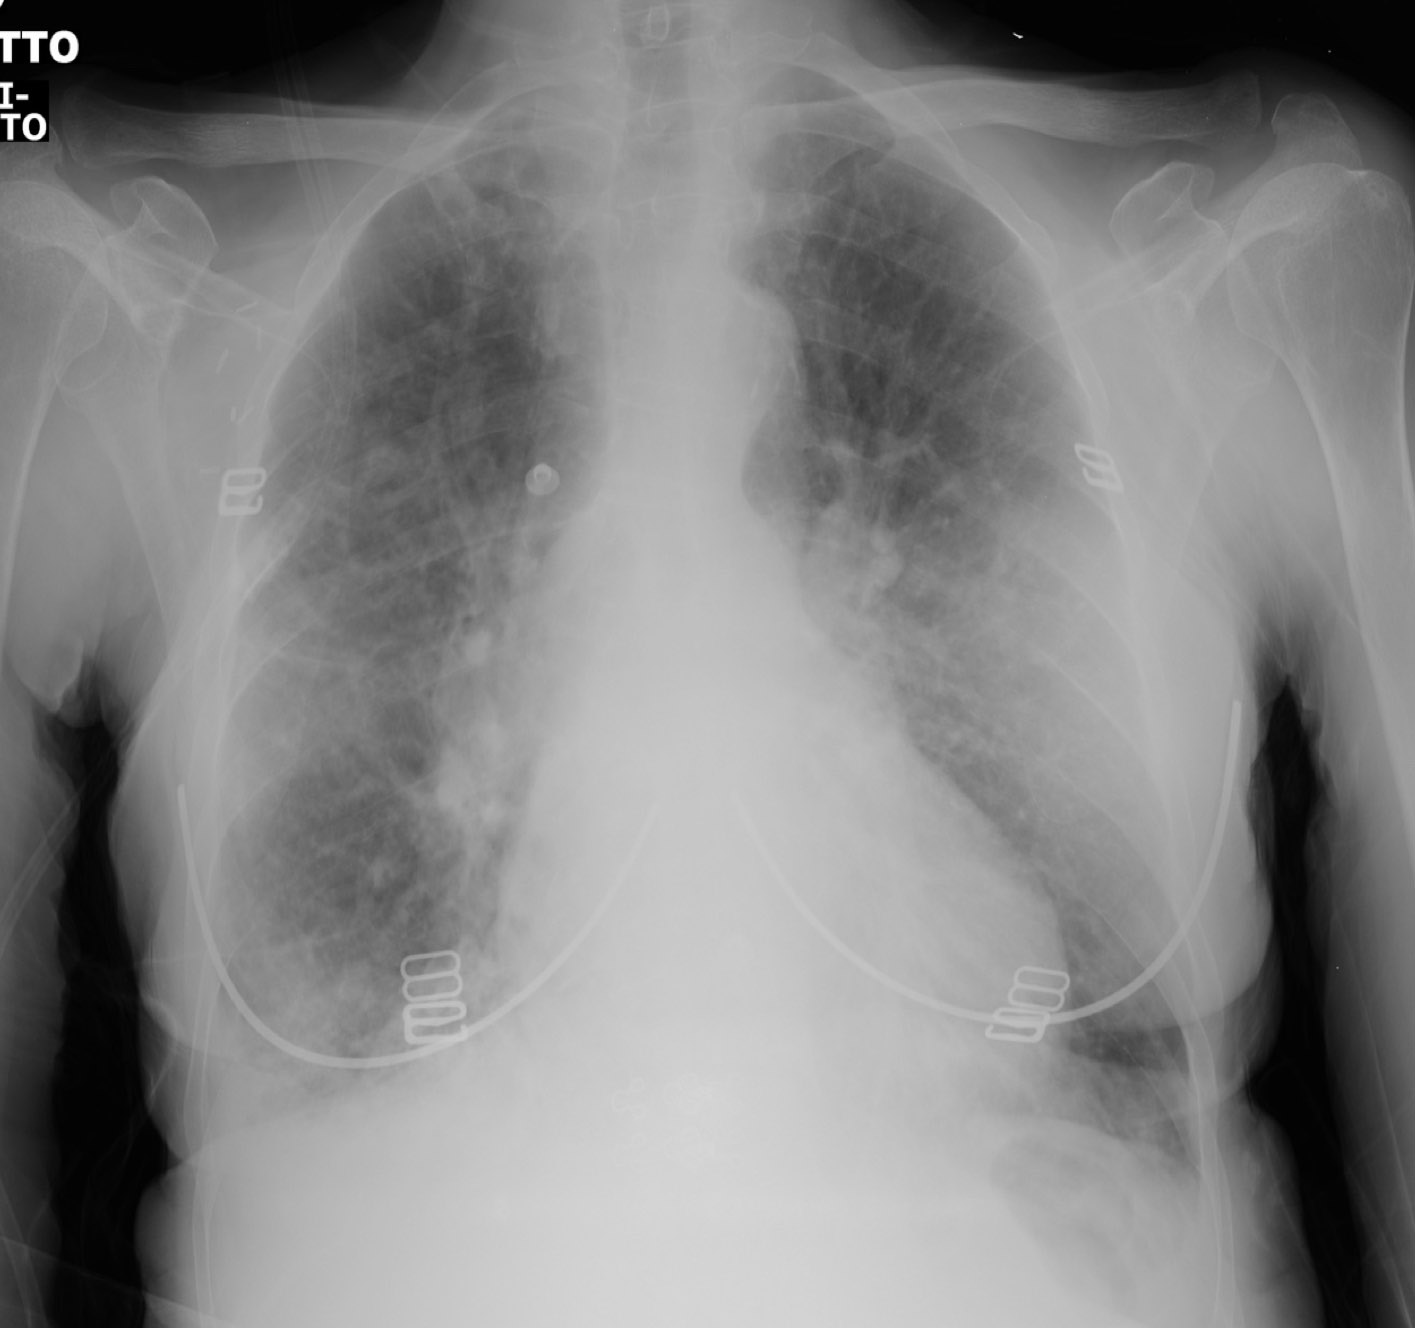Severe: (751, 62, 1185, 1140), (216, 94, 596, 1020)
